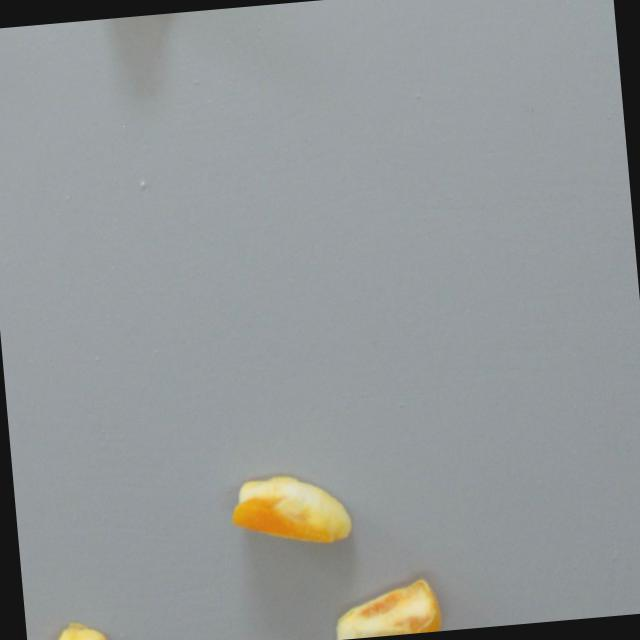pelicula: (229, 465, 356, 558), (332, 571, 442, 640), (38, 620, 115, 640)
